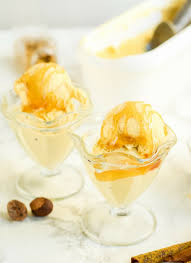ice-cream: (96, 101, 168, 159), (17, 63, 85, 121)
